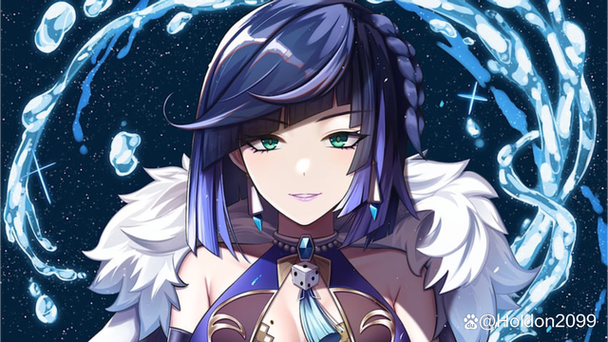夜兰: (163, 1, 464, 342)
